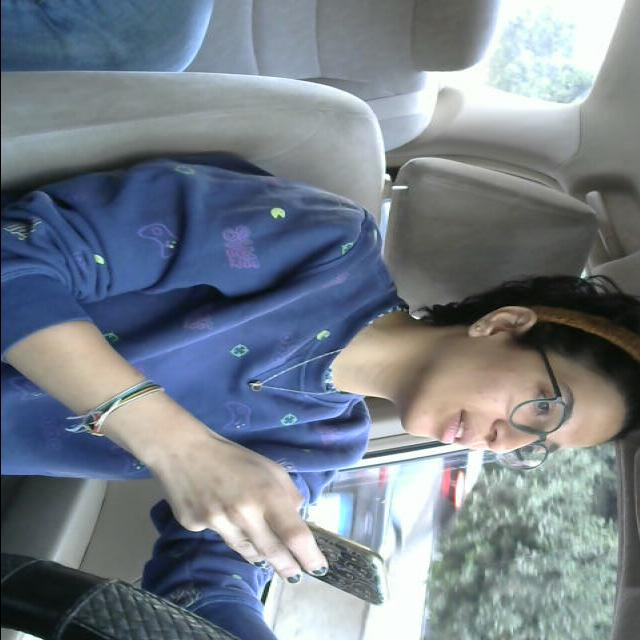mobile use: (276, 518, 394, 606)
